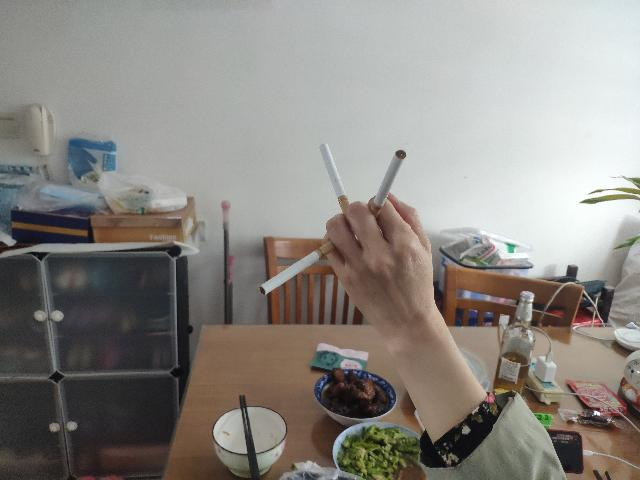Cigarette: (258, 240, 338, 296), (319, 143, 356, 227), (366, 148, 408, 222)
